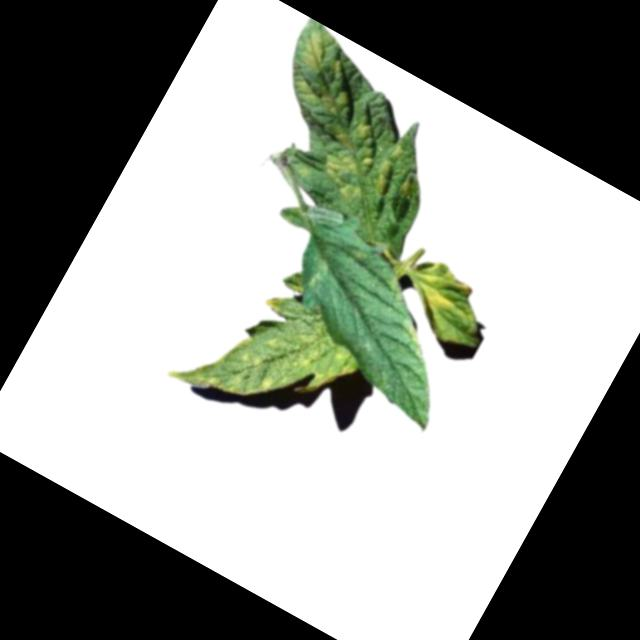Leaf_Mold: (163, 261, 371, 454), (240, 17, 437, 211), (392, 252, 476, 339), (299, 254, 336, 295)
